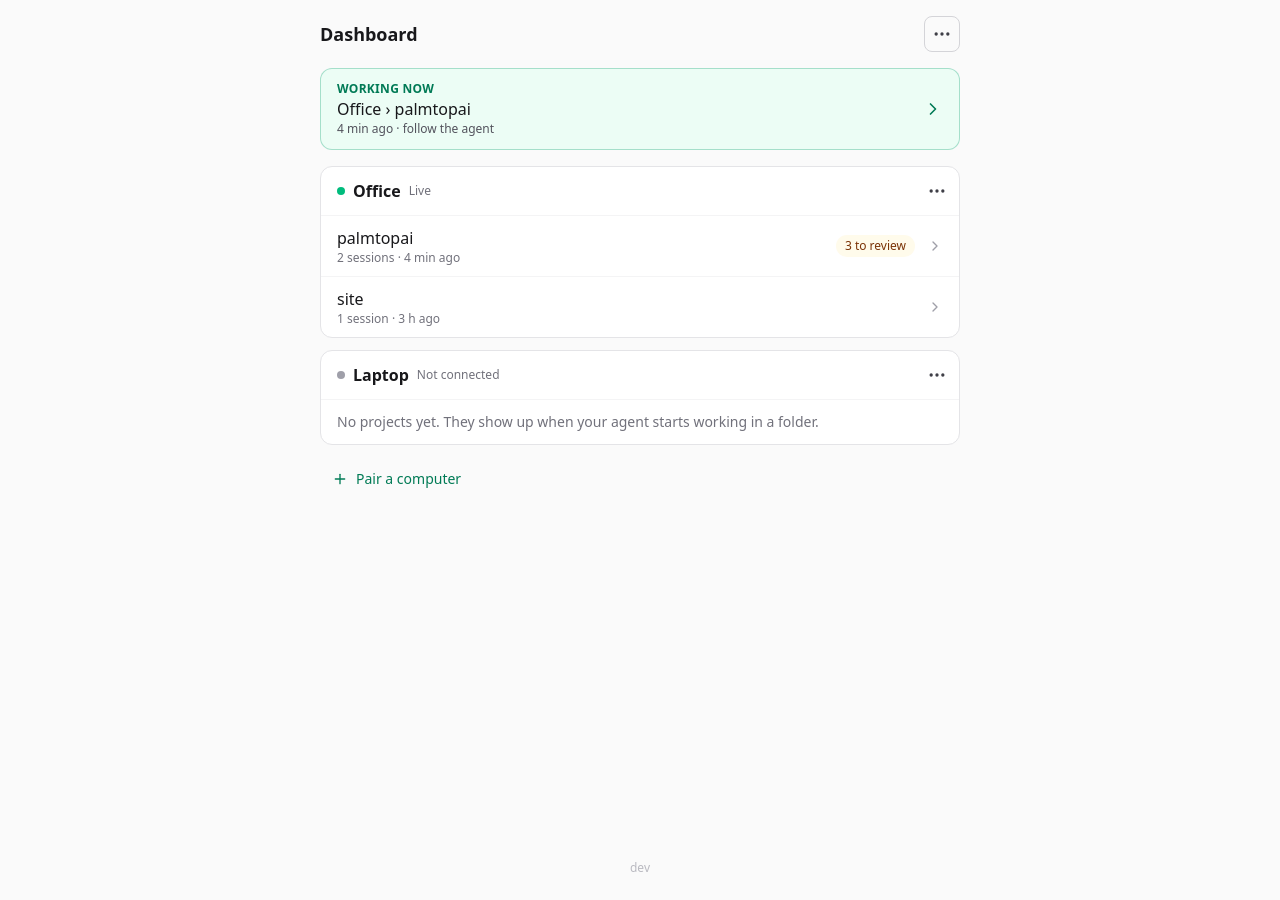
Test: Dashboard › "Pair a computer" explains how
The width and height of the screenshot is (1280, 900).
Click the button "Pair a computer" at (397, 479), box [320, 461, 473, 497]
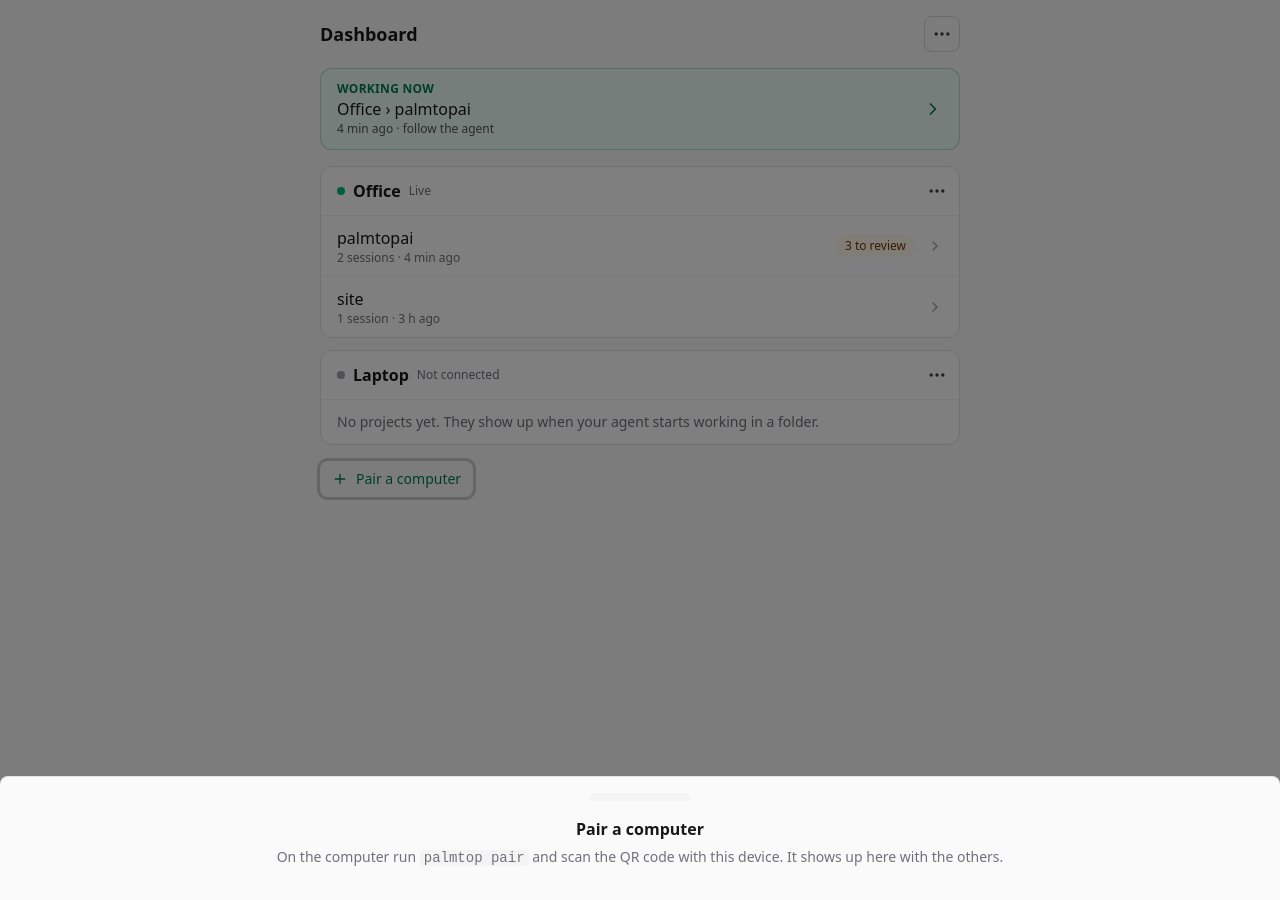
Check: the text "scan the QR code with this device" is shown, box [532, 847, 1003, 866]
